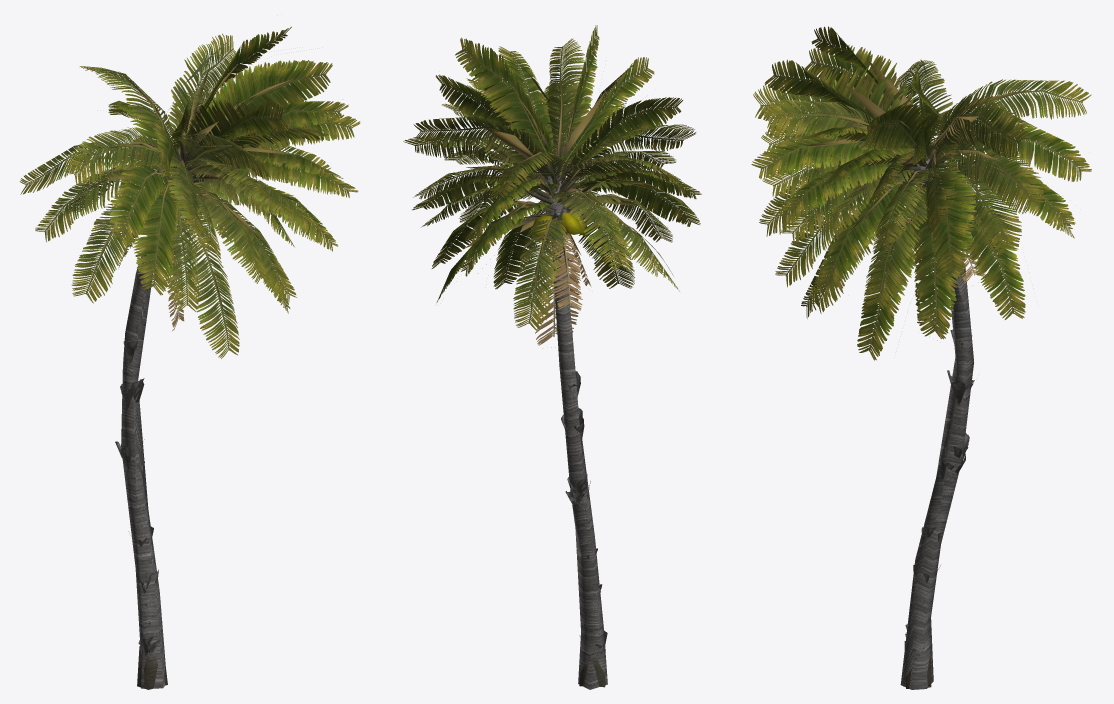
Rendered from cargo_palm_c_far.glb.
The picture shows the model from 3 angles, left to right: view 1: azimuth 30°, elevation 25°; view 2: azimuth 150°, elevation 25°; view 3: azimuth 270°, elevation 25°; orthographic projection. The views are drawn at different scales.
Parts seen in each view (by area): view 1: KB3D_TIS_Palm_C_Main; view 2: KB3D_TIS_Palm_C_Main; view 3: KB3D_TIS_Palm_C_Main.
Part boxes in pixels (bbox=[...]): KB3D_TIS_Palm_C_Main: bbox=[19, 26, 360, 689]; KB3D_TIS_Palm_C_Main: bbox=[403, 25, 701, 689]; KB3D_TIS_Palm_C_Main: bbox=[751, 26, 1091, 689].
Size of the model in its own units: 4.09 by 8.88 by 4.23.
Materials: 1 (1 with a texture image).
